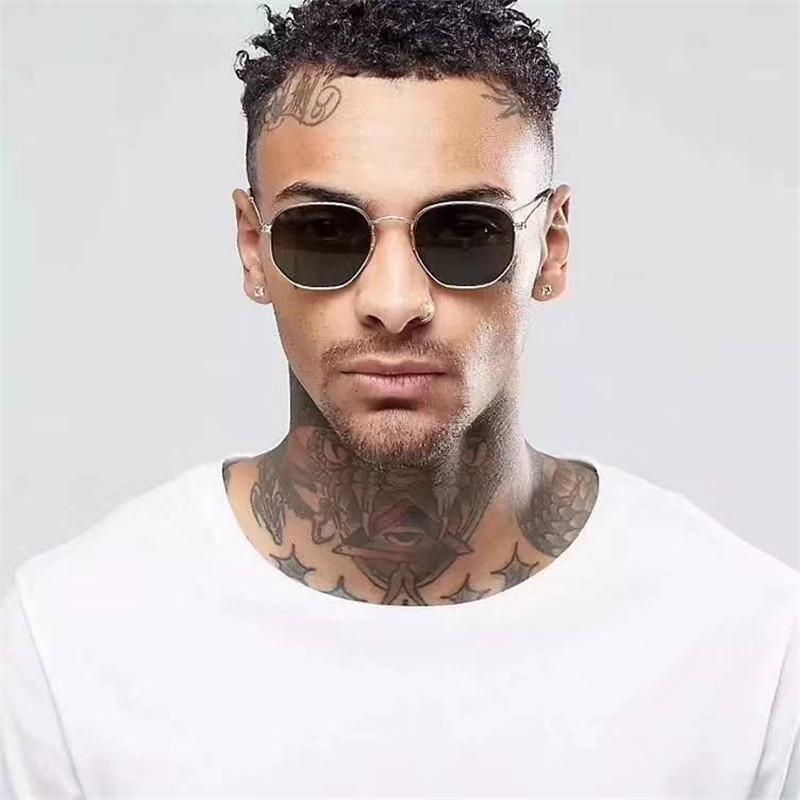sunglasses: (241, 197, 529, 297)
